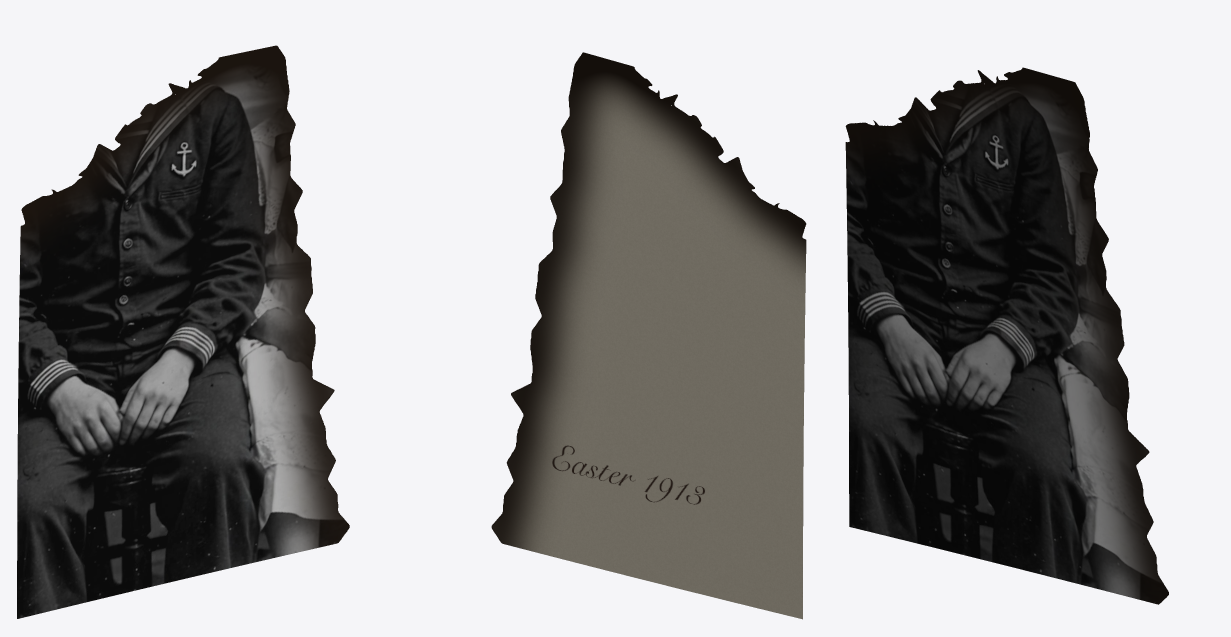
Rendered from photo-corner.glb.
The picture shows the model from 3 angles, left to right: view 1: azimuth 30°, elevation 25°; view 2: azimuth 150°, elevation 25°; view 3: azimuth 330°, elevation 25°; orthographic projection. The views are drawn at different scales.
Visible parts, largest first — view 1: Print; view 2: Card; view 3: Print.
Boxes of the visible parts, bbox=[...] form: Print: bbox=[17, 45, 349, 618]; Card: bbox=[491, 52, 806, 619]; Print: bbox=[845, 67, 1168, 604].
Bounding box in the file's own units: 0.0904 × 0.12 × 0.00842.
Materials: 2 (2 with a texture image).
